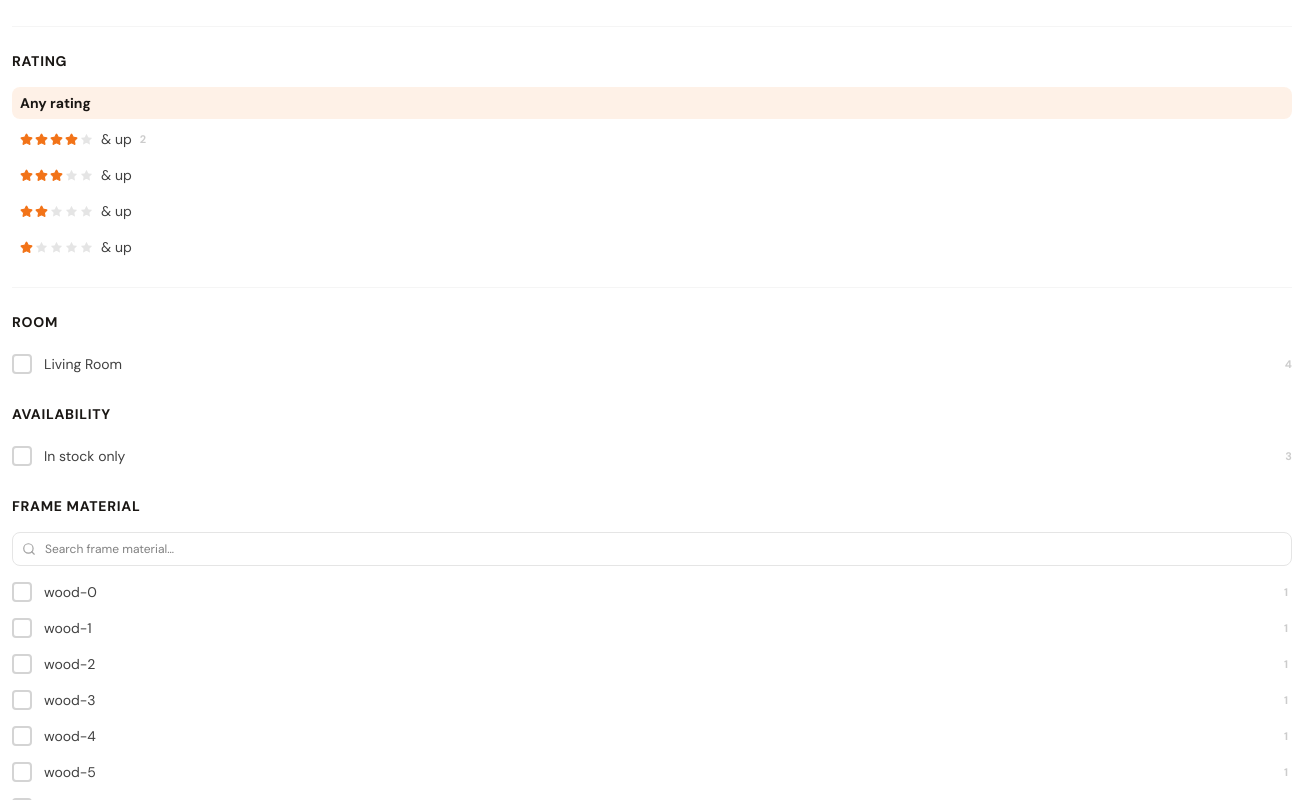
it: Empty attribute facet groups (post-delivery fix) › 'No matching values.' survives only as the search-within-facet empty state
(page scrolled)
Expected: the text "No matching values." is not shown
Type "zzz-no-match" into the search field named "Search Frame Material values" at (652, 549), box 12,532 -> 1292,566
(page scrolled)
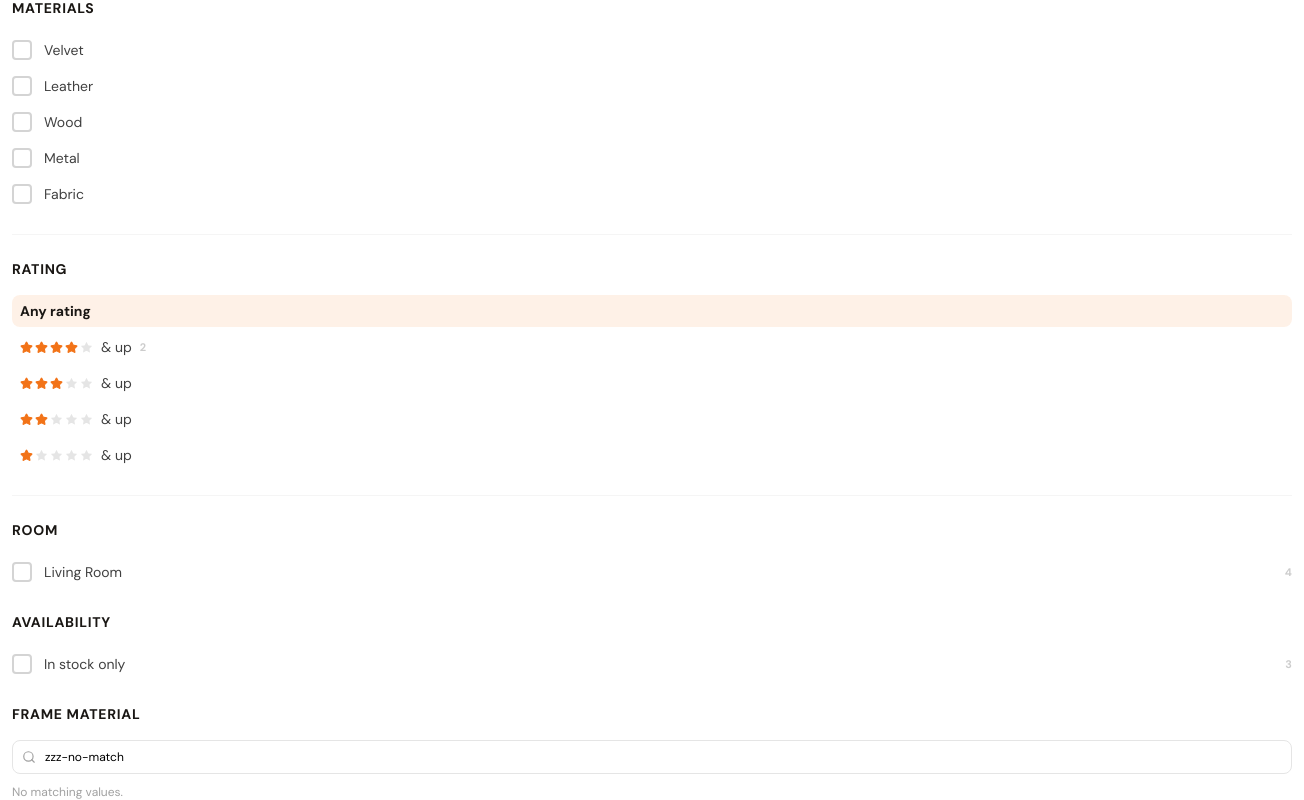
Expected: the text "No matching values." is shown, 12,784 -> 123,799
